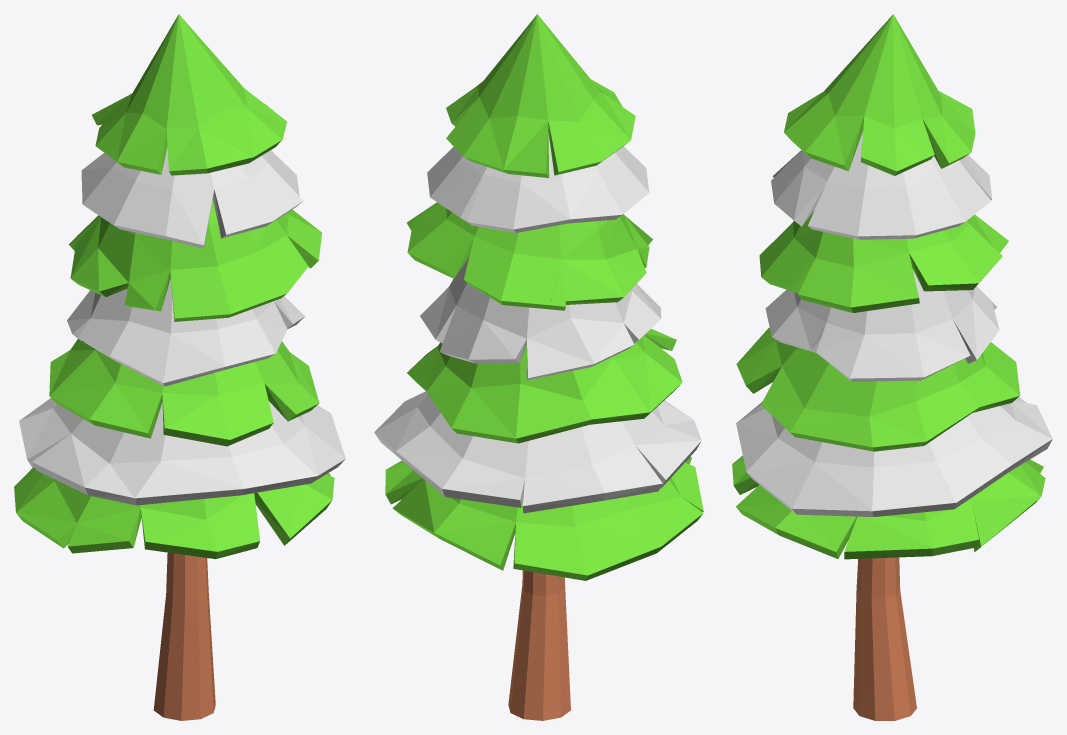
Rendered from Tree_2.fbx.
The picture shows the model from 3 angles, left to right: view 1: azimuth 30°, elevation 25°; view 2: azimuth 150°, elevation 25°; view 3: azimuth 270°, elevation 25°; orthographic projection.
Visible parts, largest first — view 1: Tree_2; view 2: Tree_2; view 3: Tree_2.
Part boxes in pixels (bbox=[...]): Tree_2: bbox=[14, 14, 345, 720]; Tree_2: bbox=[374, 14, 703, 720]; Tree_2: bbox=[732, 14, 1052, 720].
Bounding box in the file's own units: 2.44 × 5.65 × 2.37.
